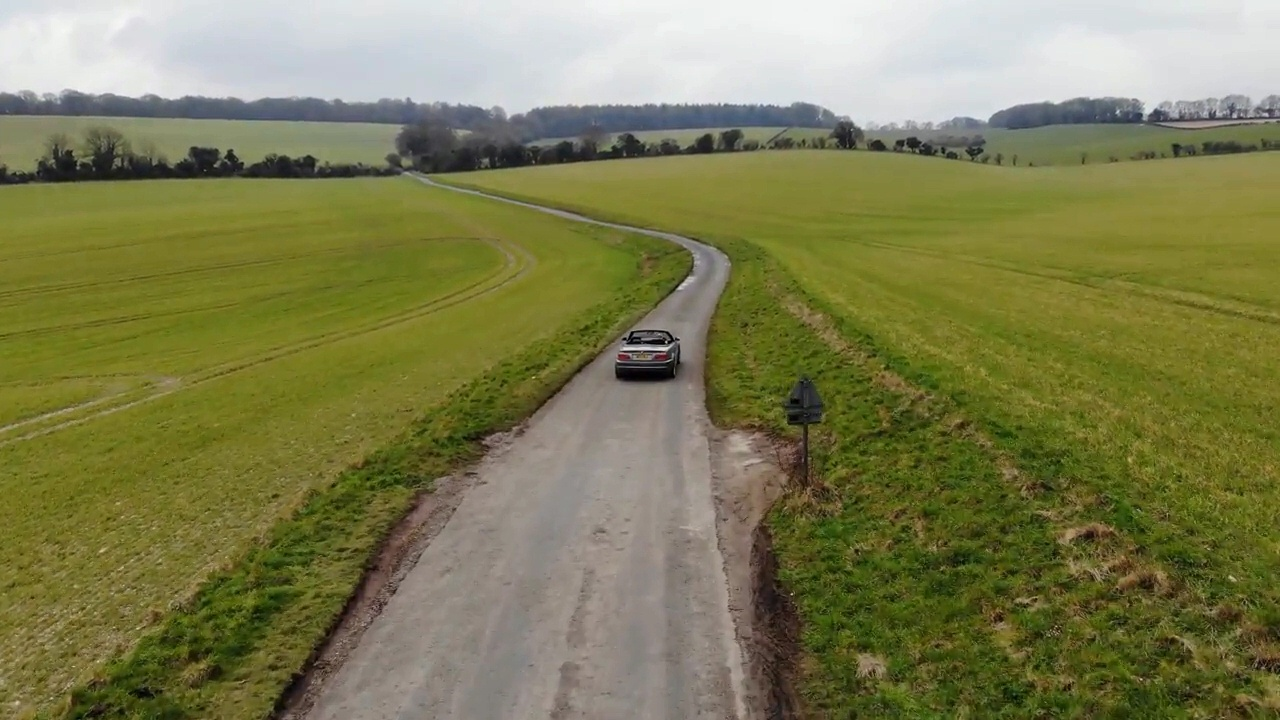araba: (613, 329, 681, 378)
